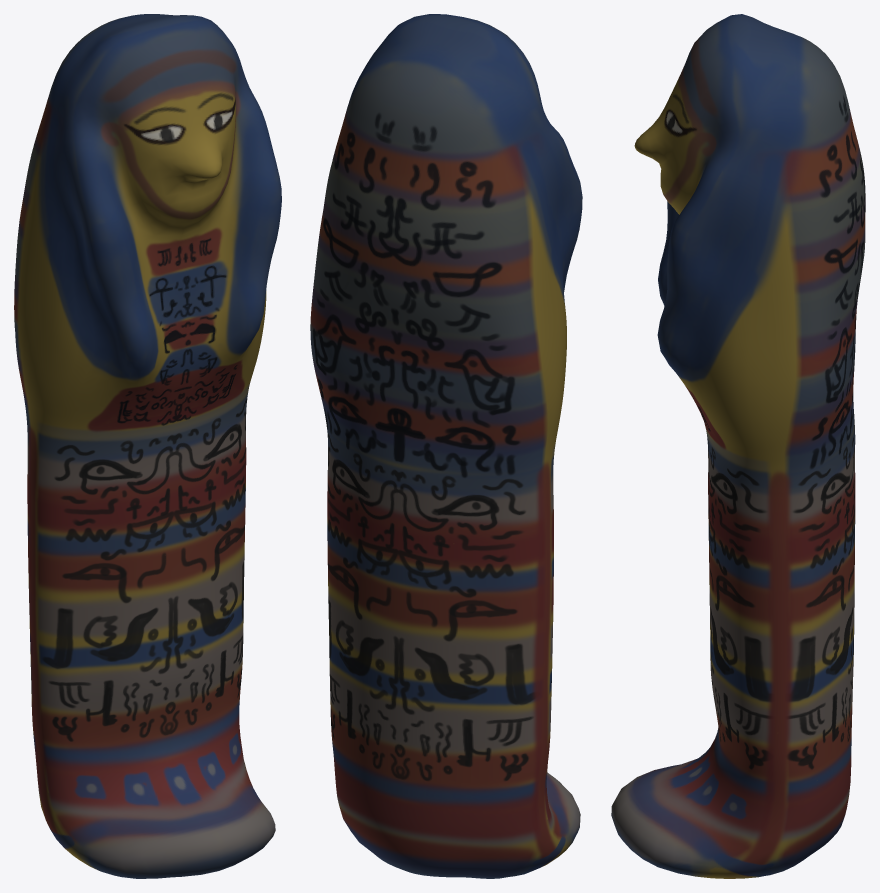
File: lahit.fbx
The picture shows the model from 3 angles, left to right: view 1: azimuth 30°, elevation 25°; view 2: azimuth 150°, elevation 25°; view 3: azimuth 270°, elevation 25°; orthographic projection.
Visible parts, largest first — view 1: lahit; view 2: lahit; view 3: lahit.
Boxes of the visible parts, bbox=[...] form: lahit: bbox=[14, 14, 281, 878]; lahit: bbox=[310, 14, 582, 878]; lahit: bbox=[611, 14, 865, 878].
Size of the model in its own units: 167 by 581 by 163.
